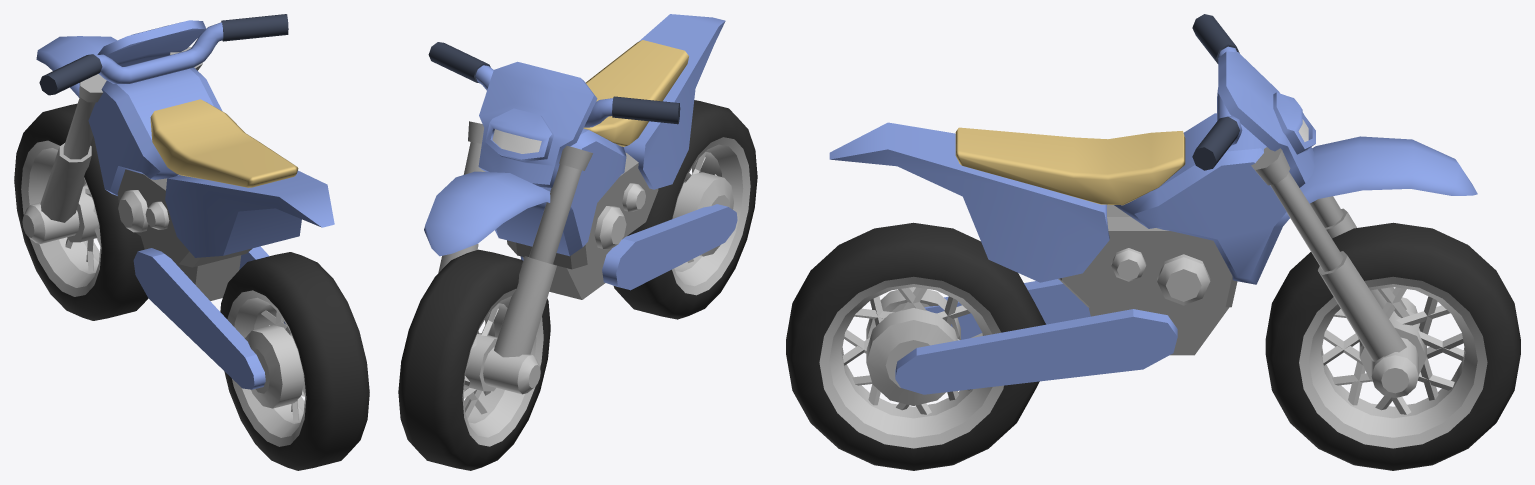
Rendered from bike2.fbx.
The picture shows the model from 3 angles, left to right: view 1: azimuth 30°, elevation 25°; view 2: azimuth 150°, elevation 25°; view 3: azimuth 270°, elevation 25°; orthographic projection. The views are drawn at different scales.
Visible parts, largest first — view 1: bike2; view 2: bike2; view 3: bike2.
Boxes of the visible parts, bbox=[...] form: bike2: bbox=[14, 14, 369, 470]; bike2: bbox=[398, 14, 757, 470]; bike2: bbox=[786, 14, 1520, 470].
Bounding box in the file's own units: 91.25 × 119 × 201.
